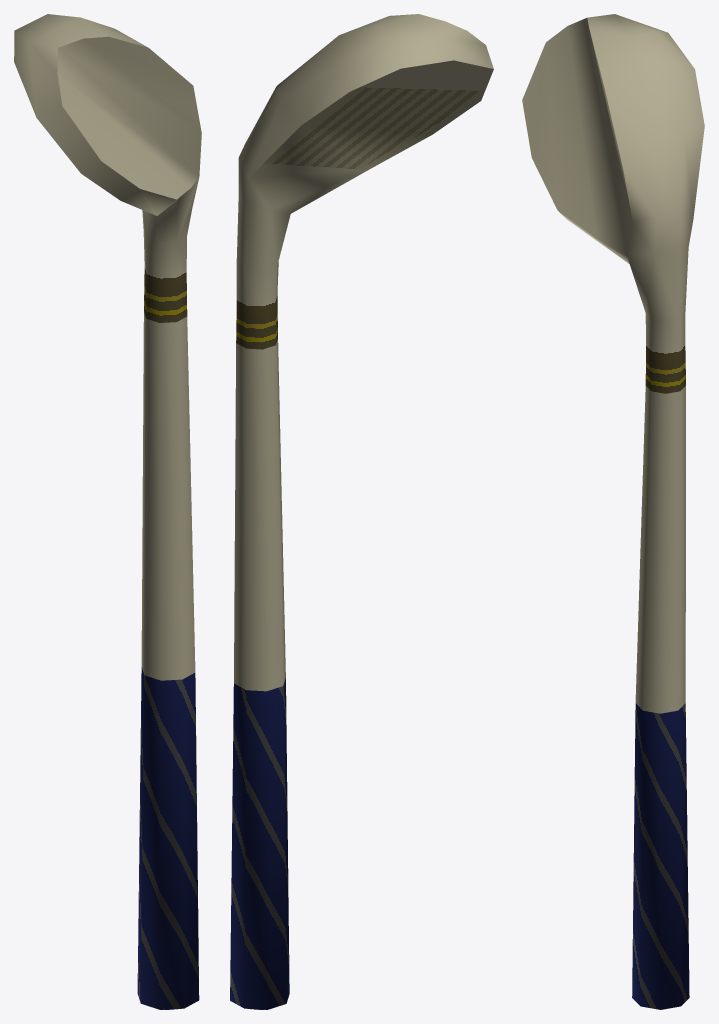
File: glf_club__glf_club_SW.glb
3 views of the same model, side by side, from view 1: azimuth 30°, elevation 25°; view 2: azimuth 150°, elevation 25°; view 3: azimuth 270°, elevation 25° (orthographic). The views are drawn at different scales.
Visible parts, largest first — view 1: polygon1, polygon0; view 2: polygon1, polygon0; view 3: polygon1, polygon0.
Boxes of the visible parts, x1,y1,x2,y2 form: polygon1: (14,14,201,680); polygon0: (137,667,199,1009); polygon1: (234,14,493,691); polygon0: (230,678,289,1009); polygon1: (522,14,704,713); polygon0: (632,703,689,1009).
Size of the model in its own units: 1.64 by 7.54 by 1.35.
Materials: 2 (2 with a texture image).
